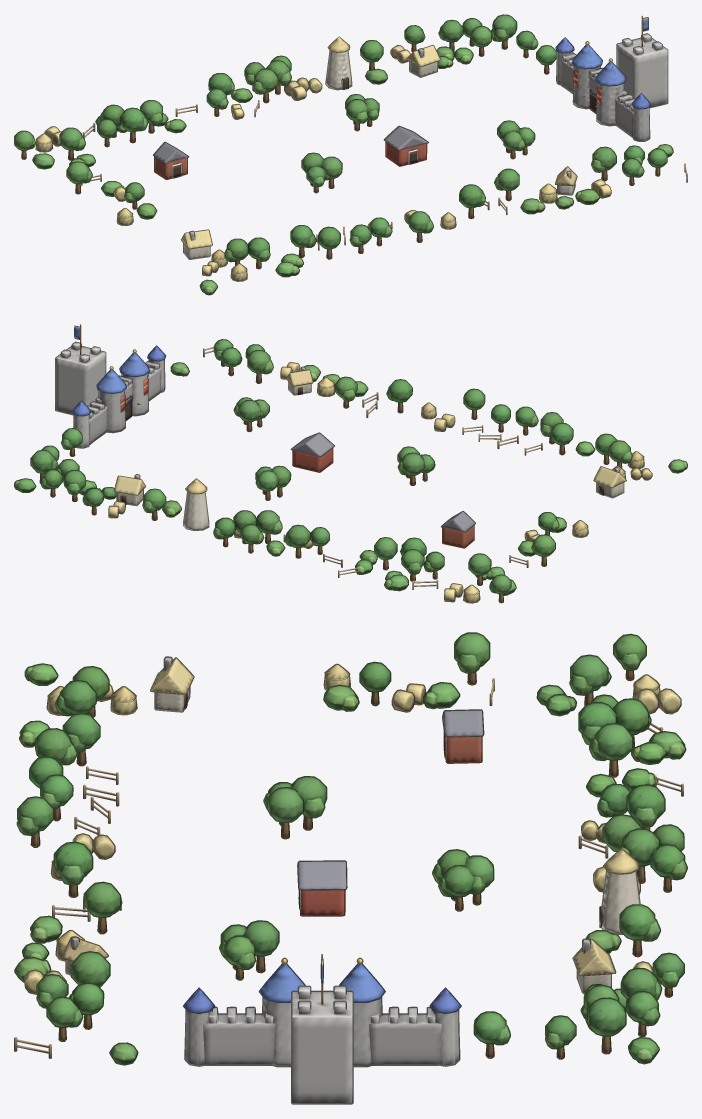
File: hedgerow_fields.glb
3 views of the same model, one above another, from view 1: azimuth 30°, elevation 25°; view 2: azimuth 150°, elevation 25°; view 3: azimuth 270°, elevation 25° (orthographic). The views are drawn at different scales.
Visible parts, largest first — view 1: Baked_matte, Baked_matte_Outline; view 2: Baked_matte, Baked_matte_Outline; view 3: Baked_matte, Baked_matte_Outline.
Part boxes in pixels (box(x1,y1,x2,y2)): Baked_matte: box(14, 15, 687, 294); Baked_matte_Outline: box(14, 14, 673, 295); Baked_matte: box(14, 324, 687, 602); Baked_matte_Outline: box(14, 325, 687, 603); Baked_matte: box(14, 633, 686, 1103); Baked_matte_Outline: box(14, 632, 687, 1104).
Size of the model in its own units: 40.69 by 6.18 by 26.8.
